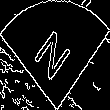N_SW: (32, 23, 78, 87)
